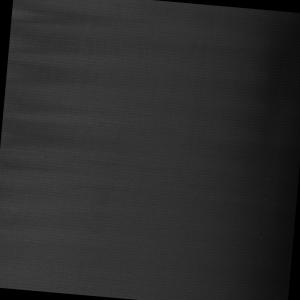Wrinkle: (1, 1, 160, 300), (165, 4, 300, 300)
